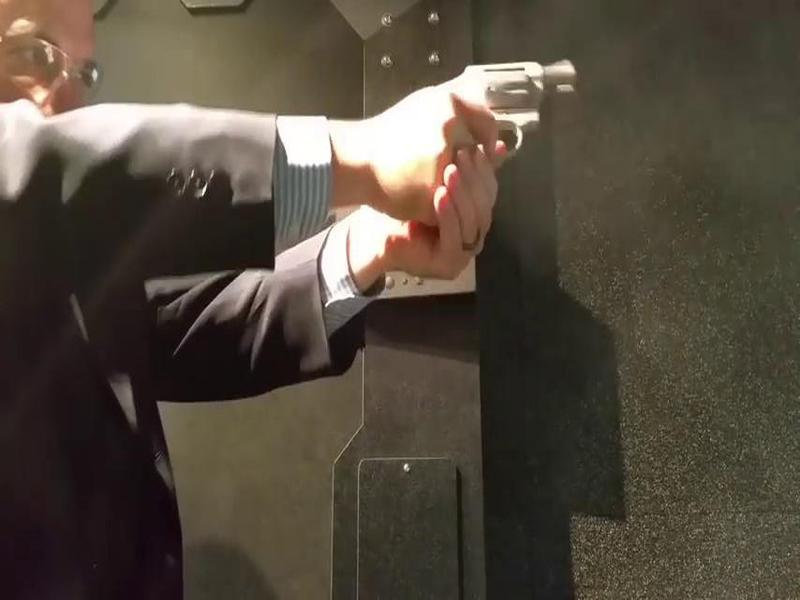Revolver: (409, 16, 602, 193)
